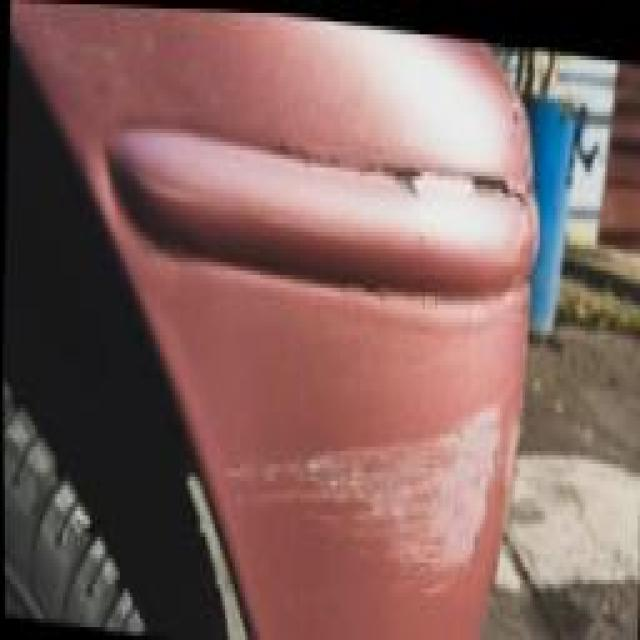Bumper: (158, 26, 559, 638)
